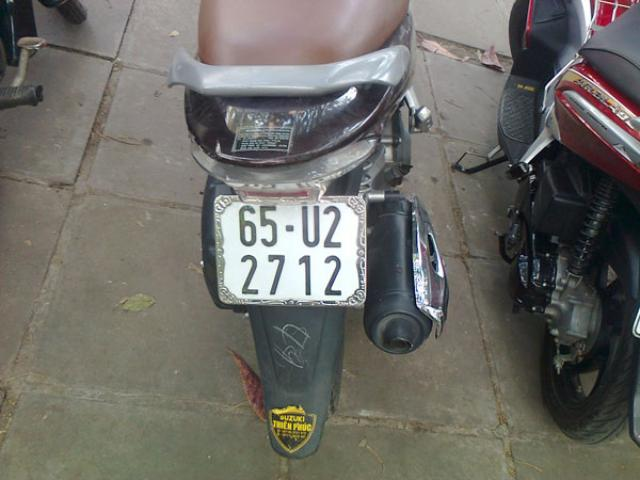plate: (218, 196, 362, 308)
